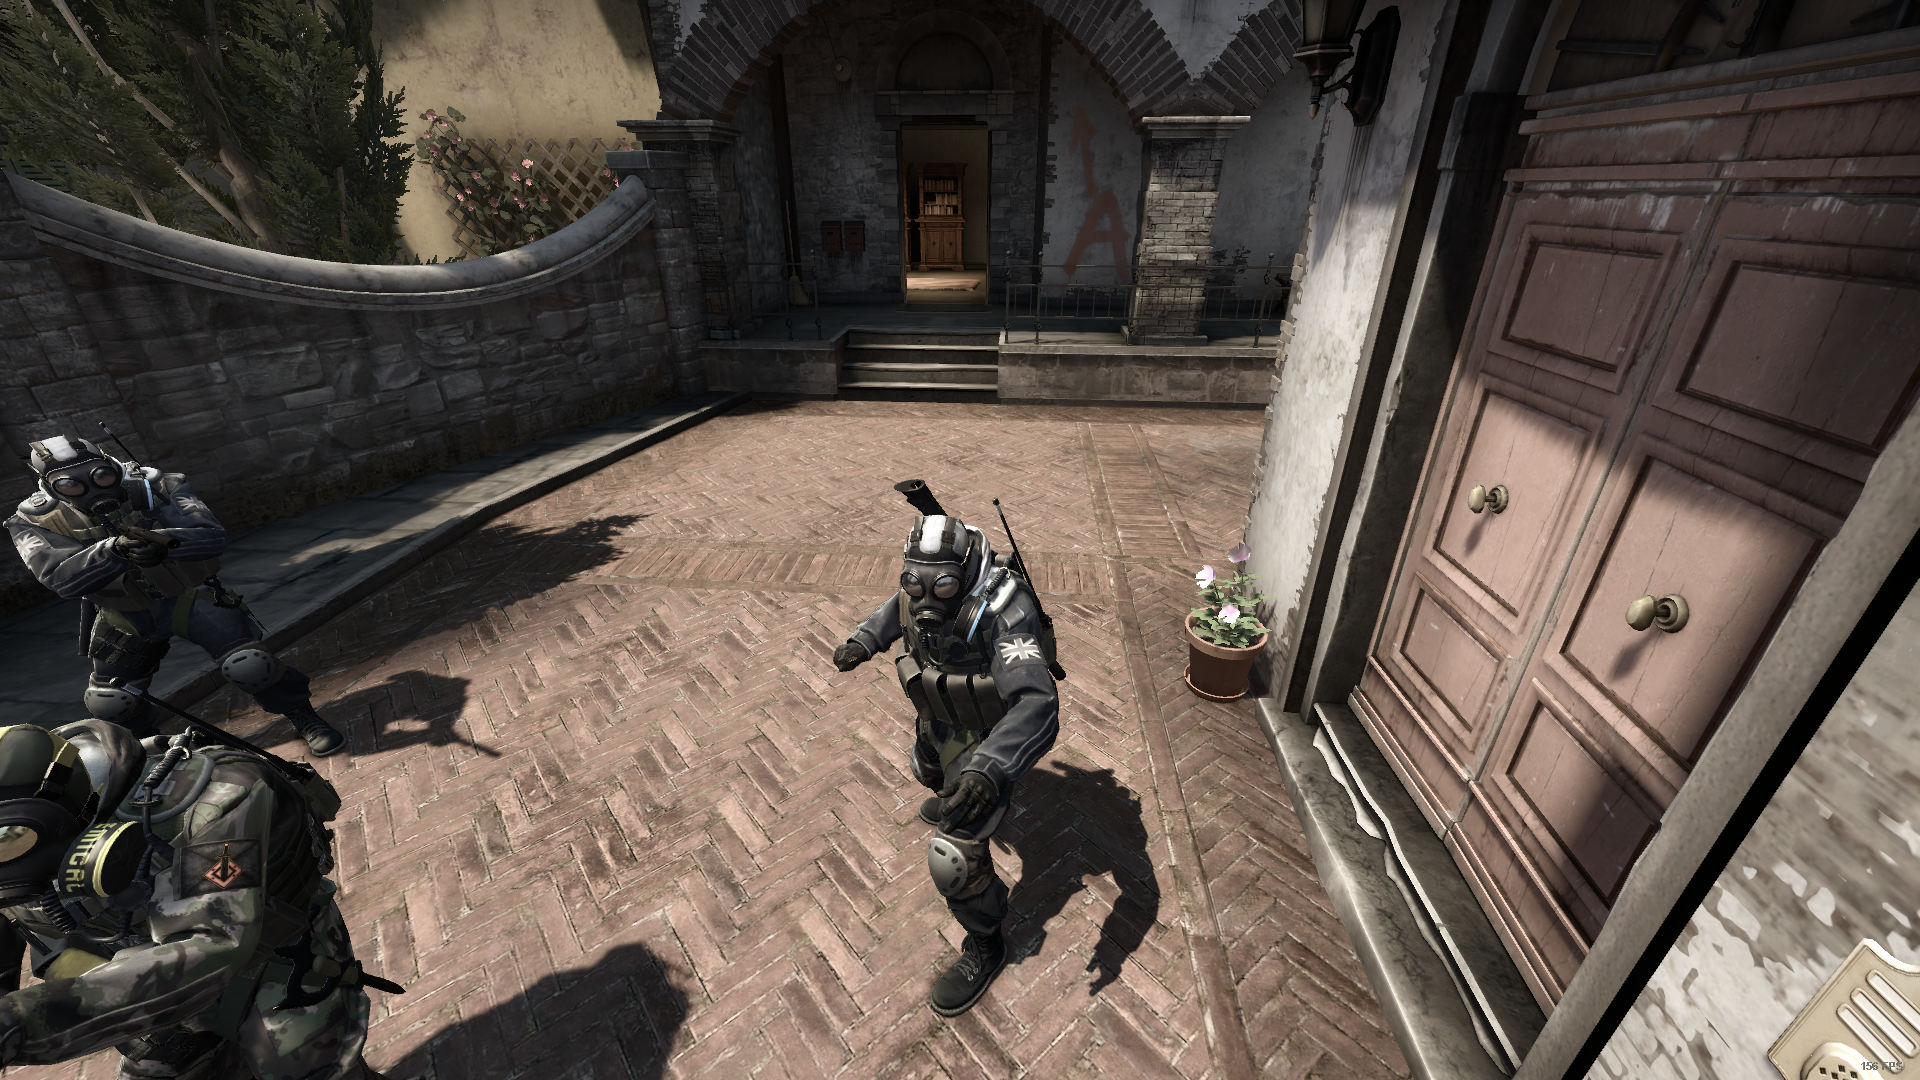ct: (828, 502, 1116, 1021), (15, 435, 345, 764)
